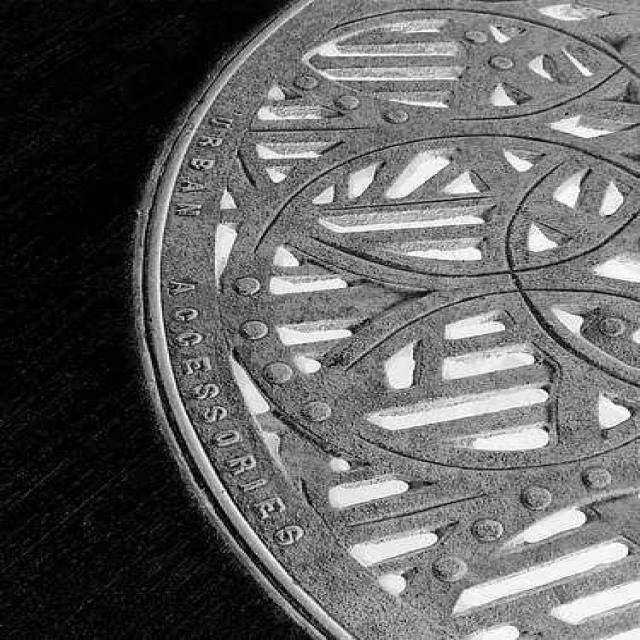manhole: (137, 0, 638, 640)
